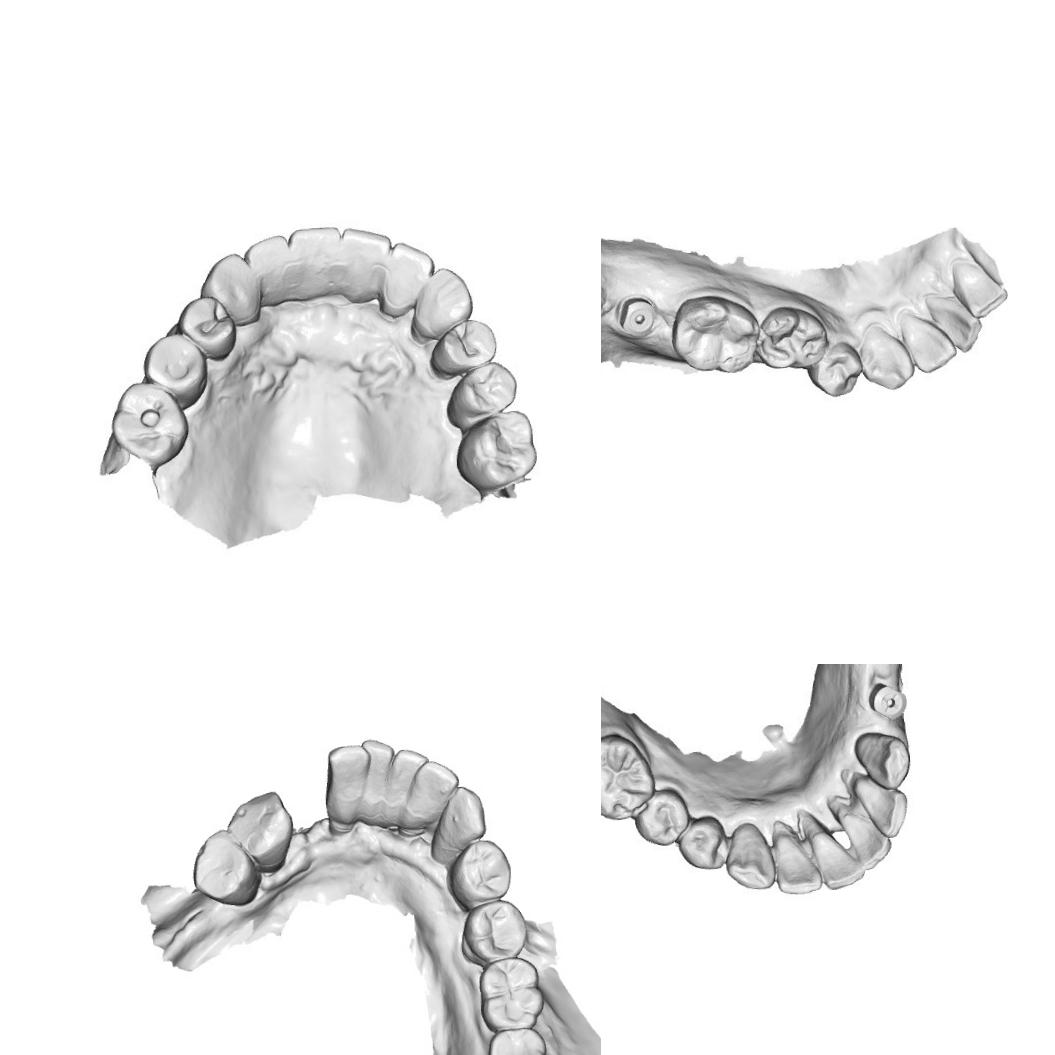canine: (198, 249, 262, 329), (410, 262, 476, 334), (427, 782, 488, 852), (862, 322, 916, 393), (854, 728, 914, 788), (723, 826, 776, 892)
implant: (614, 294, 659, 335)
implant_plus: (864, 678, 910, 720)
incisor: (336, 223, 398, 301), (284, 224, 347, 298), (834, 800, 894, 870), (807, 819, 866, 890), (923, 284, 981, 356), (946, 254, 1006, 322), (378, 238, 434, 309), (852, 774, 910, 842), (771, 818, 818, 896), (403, 757, 462, 819), (242, 235, 293, 303), (903, 313, 957, 376), (323, 742, 374, 803), (355, 736, 398, 806), (382, 746, 430, 807)
molar: (669, 293, 762, 382), (450, 405, 540, 493), (109, 378, 190, 467), (474, 954, 546, 1033), (755, 300, 828, 373), (601, 729, 648, 818), (482, 1027, 548, 1055)
premolar: (188, 824, 262, 910), (224, 786, 296, 869), (140, 330, 212, 409), (456, 896, 535, 964), (445, 836, 515, 908), (446, 358, 518, 421), (175, 294, 237, 362), (428, 317, 497, 378), (807, 337, 864, 399), (676, 814, 729, 873), (635, 790, 688, 845)
